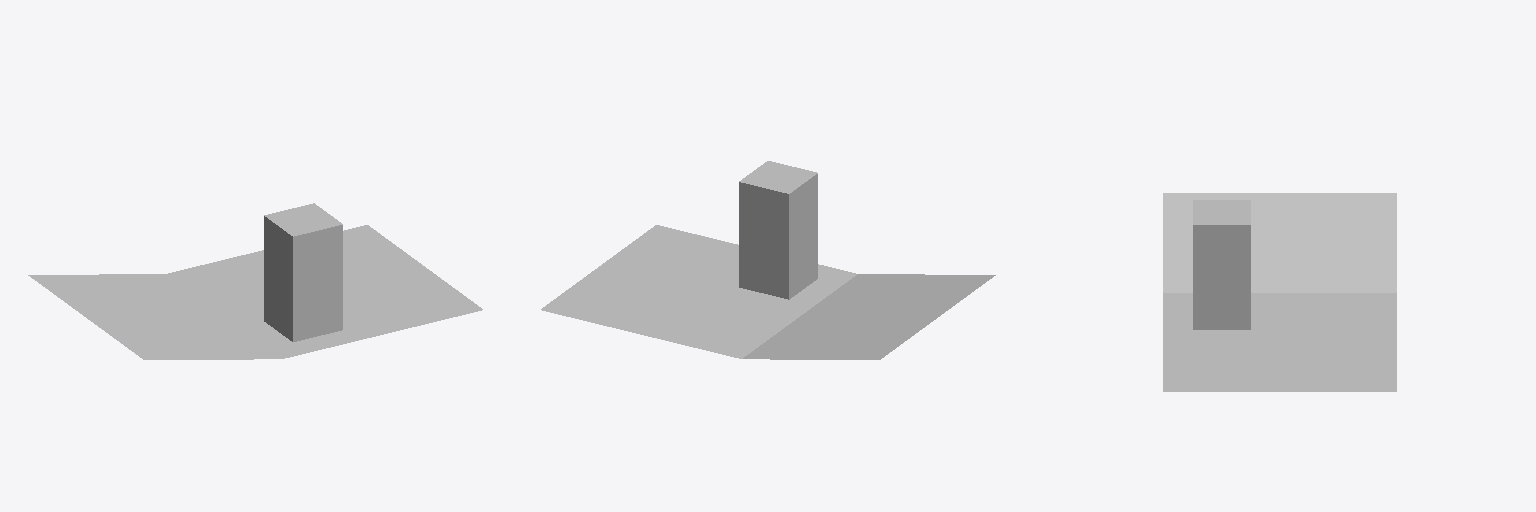
The model's file is terrainTest.obj.
3 views of the same model, side by side, from view 1: azimuth 30°, elevation 25°; view 2: azimuth 150°, elevation 25°; view 3: azimuth 270°, elevation 25° (orthographic).
Parts seen in each view (by area): view 1: Plane; view 2: Plane; view 3: Plane.
Part boxes in pixels (left/top/right/bottom): Plane: left=28, top=203, right=482, bottom=359; Plane: left=541, top=161, right=995, bottom=359; Plane: left=1163, top=193, right=1396, bottom=391.
Bounding box in the file's own units: 23.86 × 7.09 × 14.17.